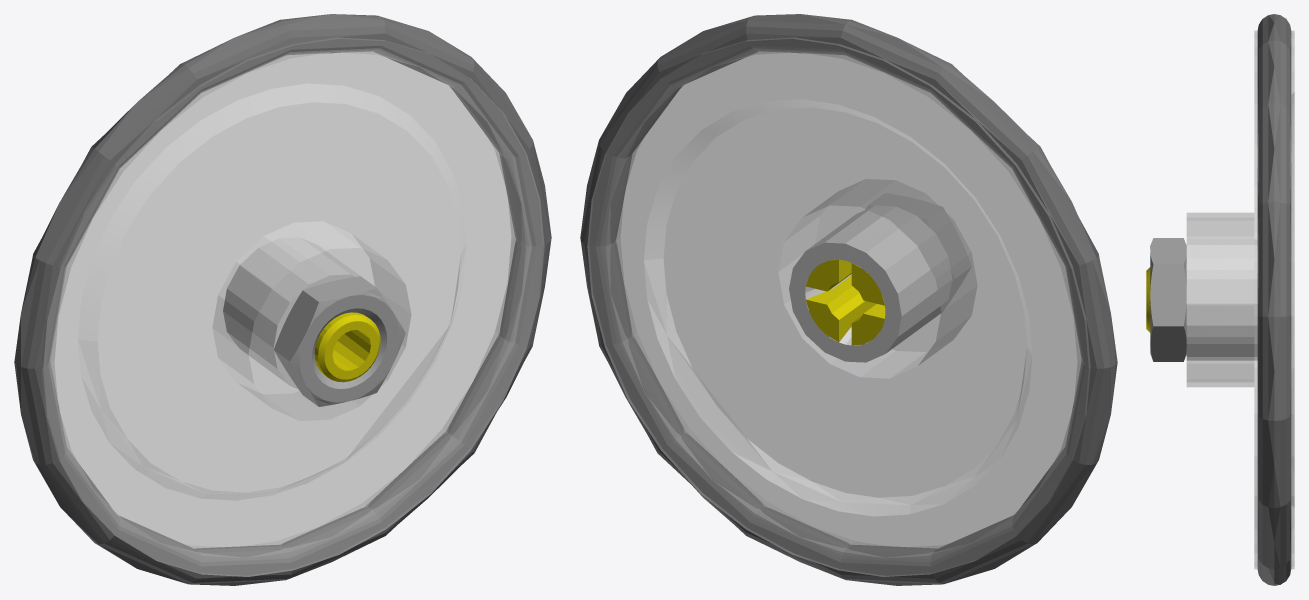
Rendered from pipuck-wheel.glb.
3 views of the same model, side by side, from view 1: azimuth 30°, elevation 25°; view 2: azimuth 150°, elevation 25°; view 3: azimuth 270°, elevation 25° (orthographic). The views are drawn at different scales.
Visible parts, largest first — view 1: Node; view 2: Node; view 3: Node.
Part boxes in pixels (x1,y1,x2,y2): Node: [14, 14, 551, 585]; Node: [580, 14, 1117, 585]; Node: [1146, 14, 1294, 585].
Size of the model in its own units: 0.0425 by 0.0425 by 0.011.
